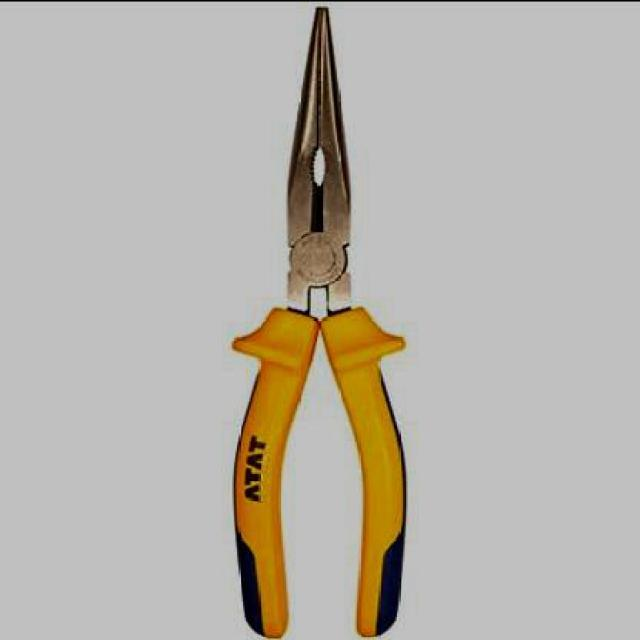pliers: (216, 6, 407, 634)
